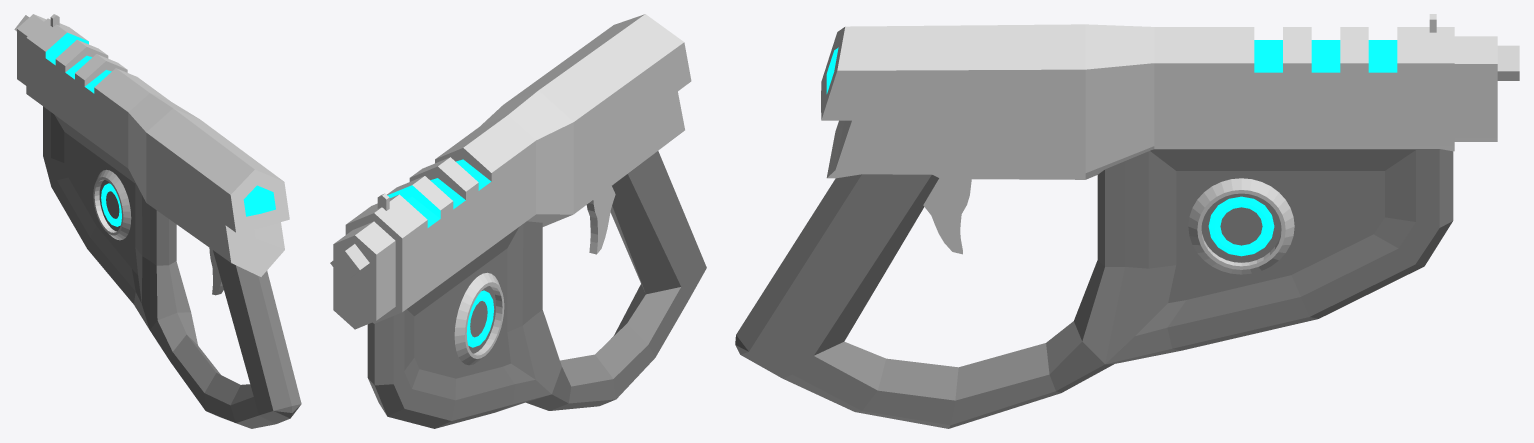
File: Pistol Blaster.fbx
3 views of the same model, side by side, from view 1: azimuth 30°, elevation 25°; view 2: azimuth 150°, elevation 25°; view 3: azimuth 270°, elevation 25° (orthographic). The views are drawn at different scales.
Visible parts, largest first — view 1: MX1 Pistol, Magazine; view 2: MX1 Pistol, Magazine; view 3: MX1 Pistol, Magazine.
Boxes of the visible parts, bbox=[...] form: MX1 Pistol: bbox=[14, 14, 301, 428]; Magazine: bbox=[101, 183, 121, 226]; MX1 Pistol: bbox=[330, 14, 706, 428]; Magazine: bbox=[466, 290, 494, 347]; MX1 Pistol: bbox=[735, 14, 1519, 428]; Magazine: bbox=[1208, 196, 1274, 256].
Size of the model in its own units: 64 by 320 by 549.
